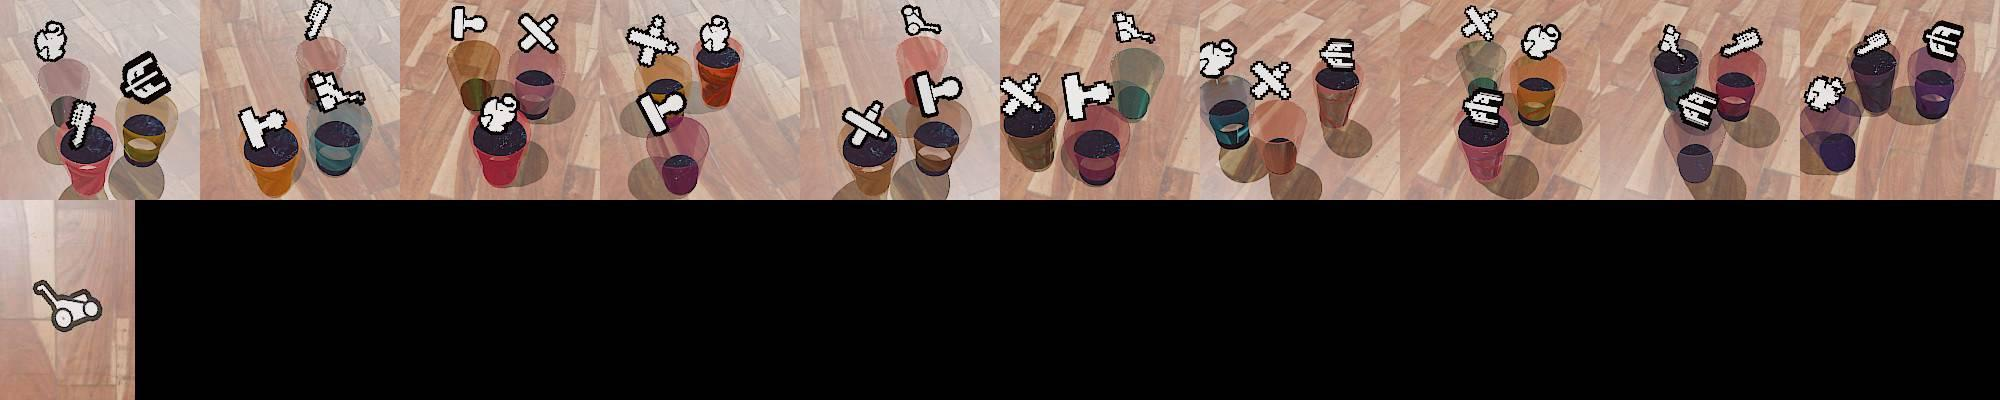icon: (34, 279, 103, 330), (625, 14, 681, 68), (1061, 71, 1115, 122), (120, 51, 171, 104), (635, 84, 686, 136), (306, 70, 366, 113), (911, 69, 963, 117), (841, 102, 893, 149), (237, 104, 290, 149), (999, 73, 1043, 120), (1460, 87, 1506, 130), (1247, 60, 1293, 101), (1921, 20, 1964, 62), (1676, 87, 1717, 131), (65, 98, 98, 152), (518, 11, 560, 54), (478, 93, 520, 134), (1802, 74, 1846, 113), (1520, 23, 1564, 61), (1112, 9, 1156, 45), (1199, 39, 1237, 79), (1718, 27, 1764, 59), (902, 4, 944, 38), (34, 20, 69, 62), (452, 4, 487, 43), (1460, 5, 1499, 41), (302, 0, 333, 42), (699, 15, 732, 54), (1852, 29, 1893, 60), (1319, 37, 1356, 70), (1657, 23, 1685, 59)
